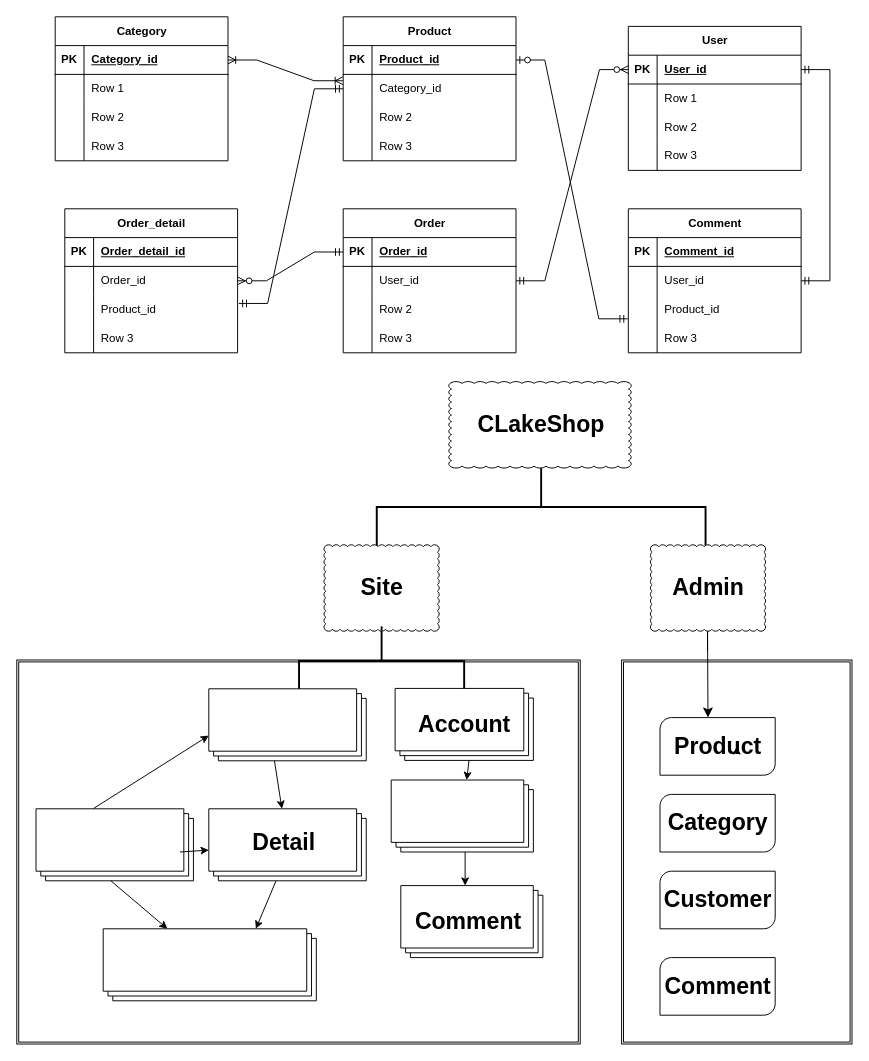
Image size: 869x1061. Some labels were removed from this diagram. The shapes that lost their labels are listed below. From the top down, each one's centre as x and y in pixels, then its label:
At (287,724): "View".
At (461,815): "Checkout".
At (114,844): "Search".
At (209,964): "Add to cart".
